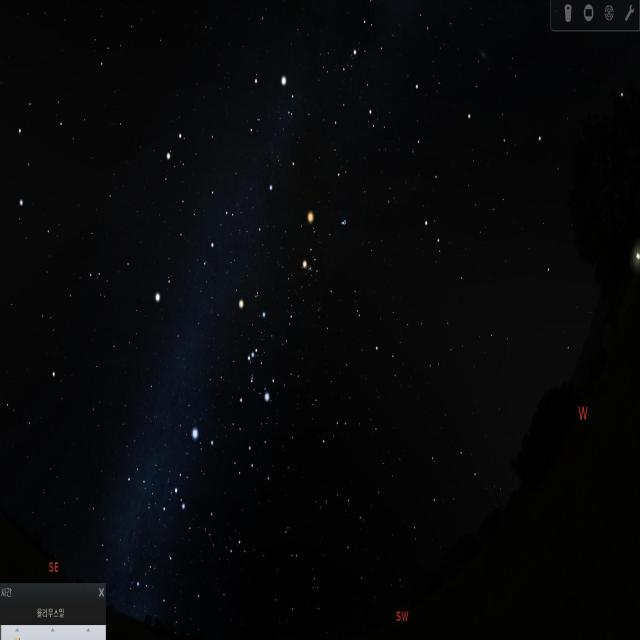canis_major: (168, 417, 220, 508)
canis_minor: (150, 266, 177, 310)
gemini: (163, 128, 240, 265)
orion: (237, 295, 275, 423)
pleiades: (336, 212, 348, 235)
taurus: (299, 193, 365, 304)
